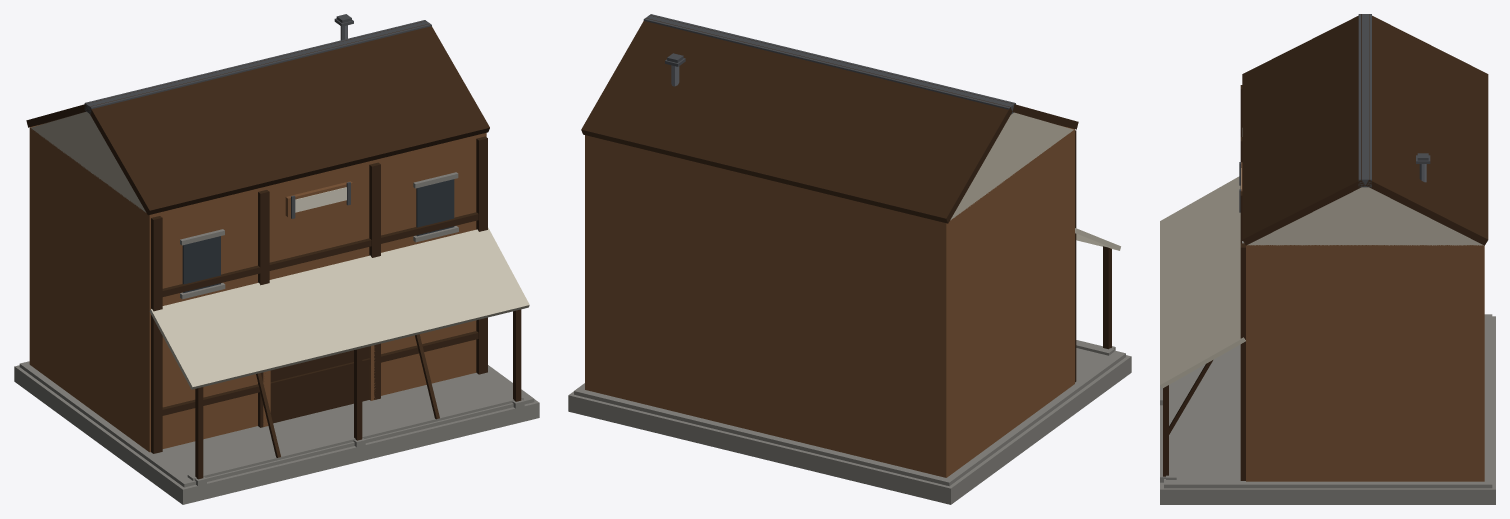
Rendered from SN_HT_Warehouse_Short.glb.
3 renders of one model, left to right at view 1: azimuth 30°, elevation 25°; view 2: azimuth 150°, elevation 25°; view 3: azimuth 270°, elevation 25°, orthographic. The views are drawn at different scales.
Parts seen in each view (by area): view 1: SN_HT_Warehouse_Short; view 2: SN_HT_Warehouse_Short; view 3: SN_HT_Warehouse_Short.
Part boxes in pixels (<box>): SN_HT_Warehouse_Short: <box>14,14,539,504</box>; SN_HT_Warehouse_Short: <box>568,14,1131,504</box>; SN_HT_Warehouse_Short: <box>1160,14,1495,504</box>.
Size of the model in its own units: 11 by 9.5 by 9.
